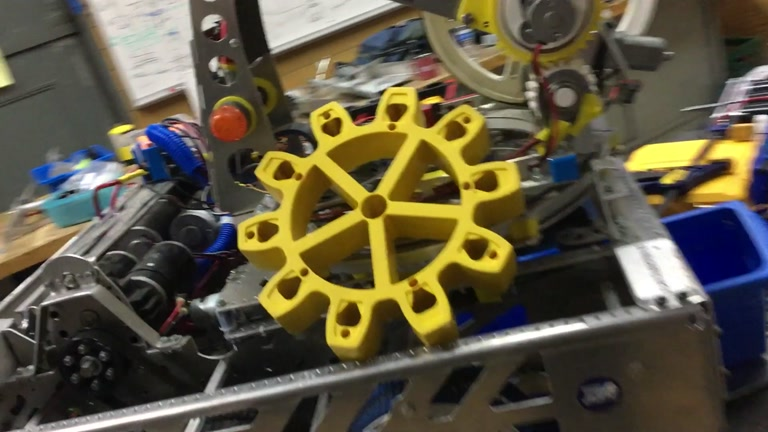gear: (239, 89, 525, 360)
